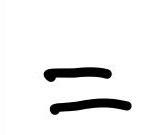eqv: (39, 64, 134, 115)
